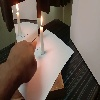fire: (40, 13, 44, 28)
